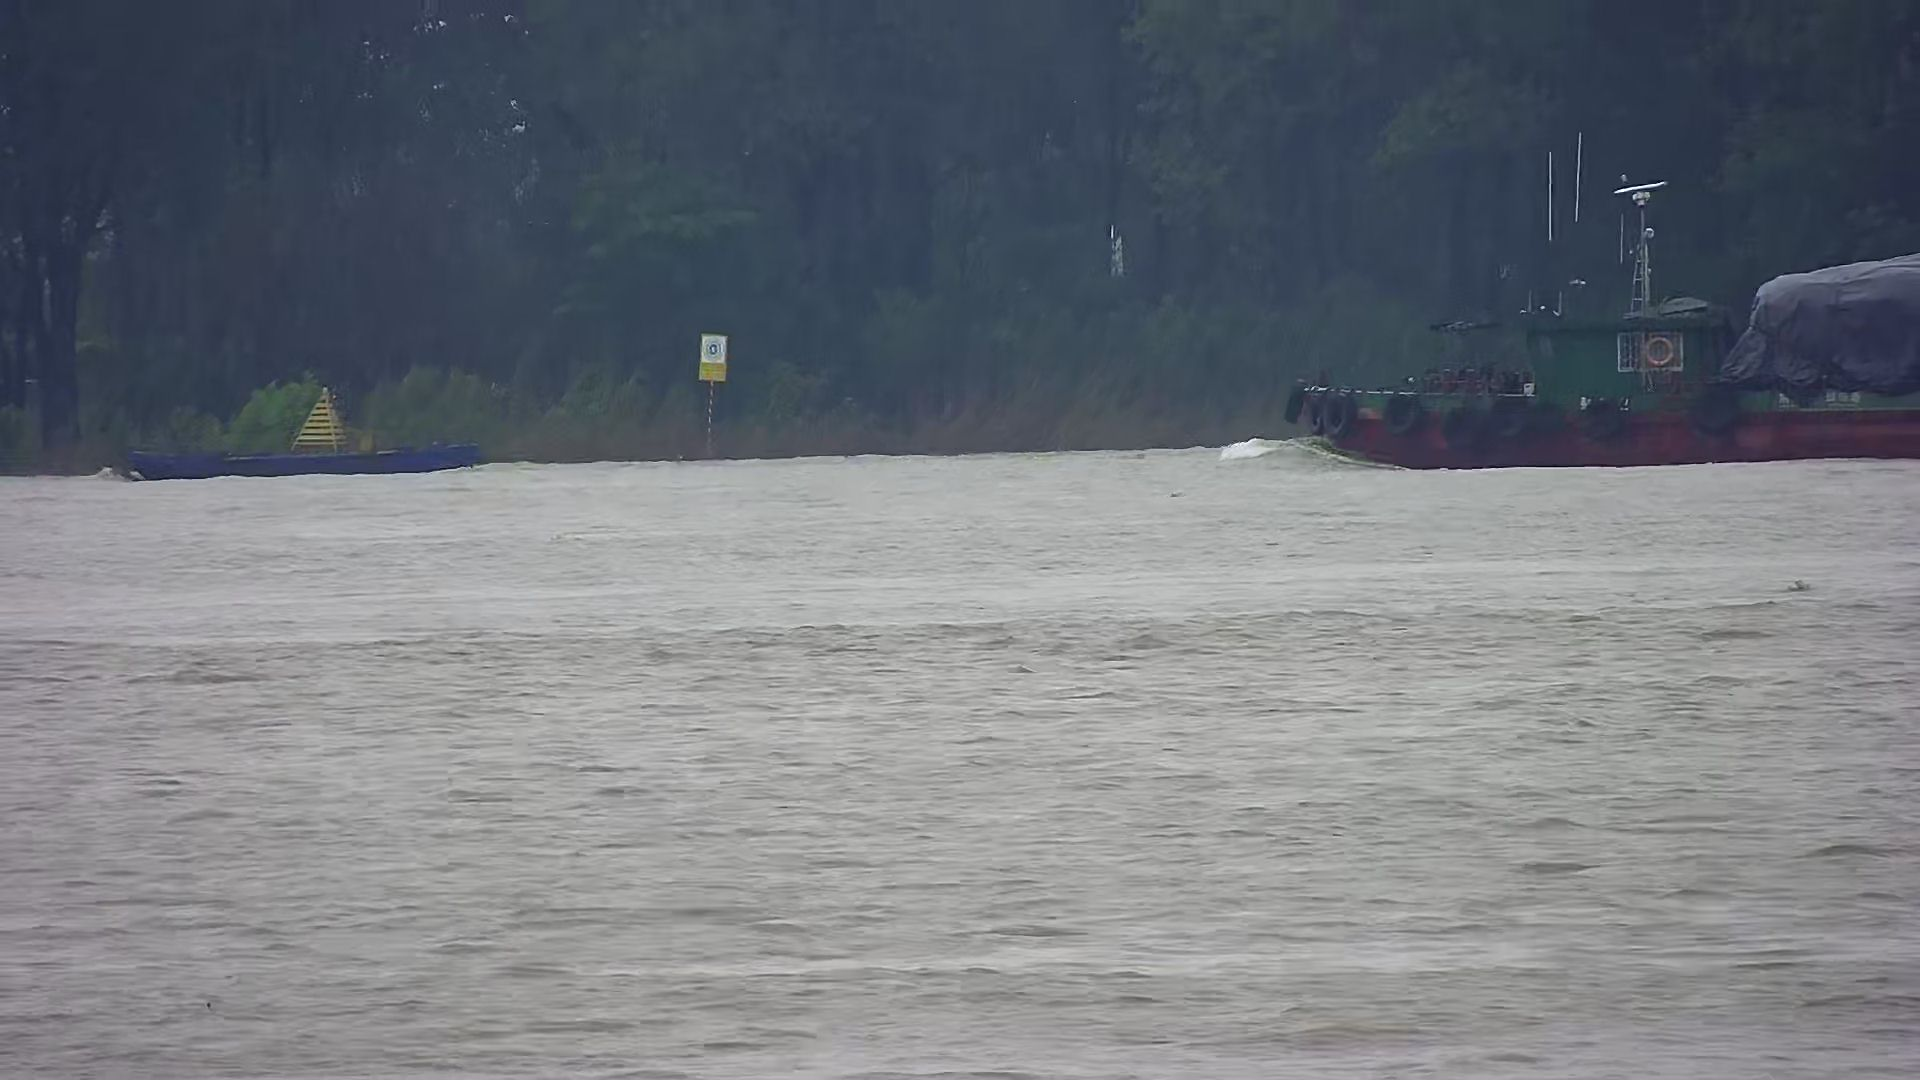boat: (124, 382, 477, 477)
mast: (695, 334, 728, 462)
ship: (1287, 183, 1920, 471)
